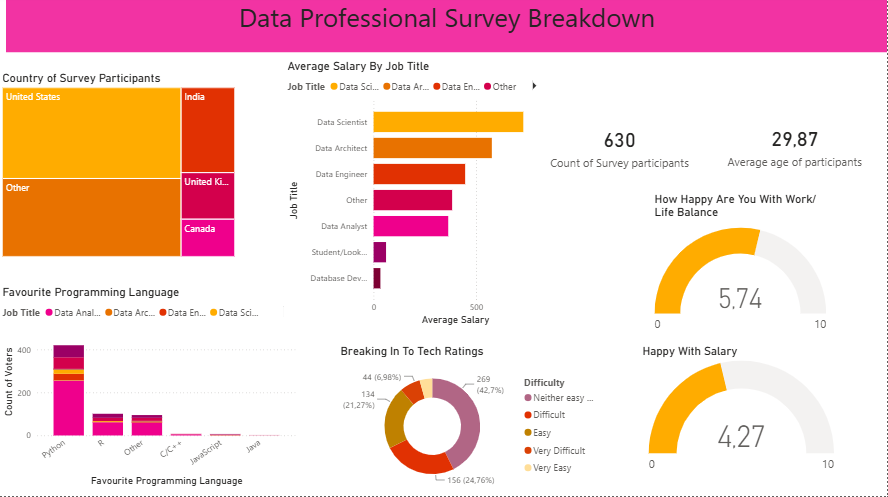

What the dashboard file says about the page in this screenshot:
{"tool":"powerbi","page":{"name":"Page 1","canvas":[1280,720],"ordinal":0},"visuals":[{"type":"textbox","box":[10.1,0,1269.9,80.6],"z":0},{"type":"card","fields":{"Values":["CountNonNull(Data Professional Survey.Unique ID)"]},"box":[775.2,90.1,237.6,250.8],"z":1000},{"type":"card","fields":{"Values":["Avg(Data Professional Survey.Q10 - Current Age)"]},"box":[1012.9,100,267.1,231.1],"z":2000},{"type":"columnChart","title":" Favourite Programming Language","fields":{"Category":["Data Professional Survey.Q5 - Favorite Programming Language.1"],"Y":["CountNonNull(Data Professional Survey.Unique ID)"],"Series":["Data Professional Survey.Q1 - Which Title Best Fits your Current Role?.1"]},"box":[0,416.3,432.7,295],"z":4000},{"type":"treemap","title":"Country of Survey Participants","fields":{"Group":["Data Professional Survey.Q11 - Which Country do you live in?.1"],"Values":["CountNonNull(Data Professional Survey.Q11 - Which Country do you live in?.1)"]},"box":[0,108.2,344.2,272.1],"z":5000},{"type":"gauge","title":"How Happy Are You With Work/ Life Balance","fields":{"Y":["Avg(Data Professional Survey.Q6 - How Happy are you in your Current Position with the following? (Work/Life Balance))"],"MinValue":["Min(Data Professional Survey.Q6 - How Happy are you in your Current Position with the following? (Work/Life Balance))"],"MaxValue":["Max(Data Professional Survey.Q6 - How Happy are you in your Current Position with the following? (Work/Life Balance))1"]},"box":[939.1,281.9,257.3,219.6],"z":6000},{"type":"gauge","title":"Happy With Salary","fields":{"Y":["Avg(Data Professional Survey.Q6 - How Happy are you in your Current Position with the following? (Salary))"],"MaxValue":["Max(Data Professional Survey.Q6 - How Happy are you in your Current Position with the following? (Salary))1"],"MinValue":["Min(Data Professional Survey.Q6 - How Happy are you in your Current Position with the following? (Salary))"]},"box":[921.1,501.5,295,193.4],"z":7000},{"type":"donutChart","title":"Breaking  In To Tech Ratings","fields":{"Category":["Data Professional Survey.Q7 - How difficult was it for you to break into Data?"],"Y":["CountNonNull(Data Professional Survey.Q7 - How difficult was it for you to break into Data?)"]},"box":[486.8,501.5,388.4,218],"z":8000},{"type":"barChart","title":" Average Salary  By Job Title","fields":{"Category":["Data Professional Survey.Q1 - Which Title Best Fits your Current Role?.1"],"Y":["Avg(Data Professional Survey.Average Salary )"],"Series":["Data Professional Survey.Q1 - Which Title Best Fits your Current Role?.1"]},"box":[409.7,90.1,380.2,388.4],"z":8001}]}

Visuals, with their boxes in screenshot pixels (x1, y1, x2, y2), scaled from the page's 1280x720 canvas onto the 888x497 screenshot:
textbox: 7/0/887/56
card - CountNonNull(Data Professional Survey.Unique ID): 538/62/703/235
card - Avg(Data Professional Survey.Q10 - Current Age): 703/69/887/229
" Favourite Programming Language" columnChart: 0/287/300/491
"Country of Survey Participants" treemap: 0/75/239/263
"How Happy Are You With Work/ Life Balance" gauge: 652/195/830/346
"Happy With Salary" gauge: 639/346/844/480
"Breaking  In To Tech Ratings" donutChart: 338/346/607/496
" Average Salary  By Job Title" barChart: 284/62/548/330
